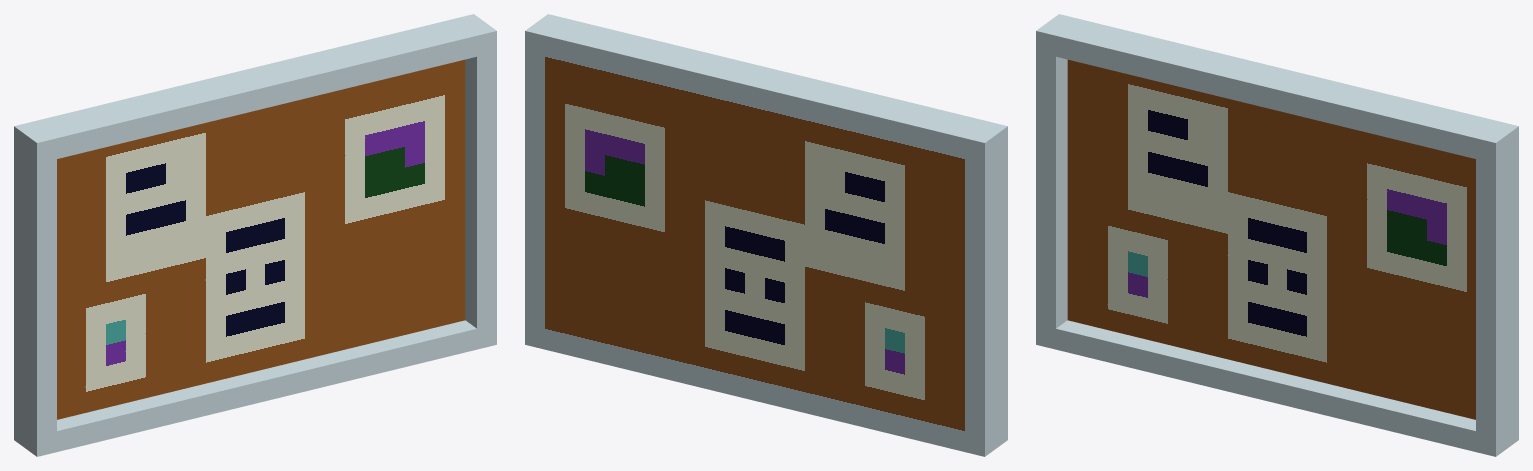
Rendered from tablica_korkowa.dae.
The picture shows the model from 3 angles, left to right: view 1: azimuth 30°, elevation 25°; view 2: azimuth 150°, elevation 25°; view 3: azimuth 330°, elevation 25°; orthographic projection.
Parts seen in each view (by area): view 1: Content; view 2: Content; view 3: Content.
Part boxes in pixels (<box>): Content: <box>14,14,496,456</box>; Content: <box>525,14,1007,456</box>; Content: <box>1036,14,1518,456</box>.
Size of the model in its own units: 23 by 15 by 2.
Materials: 1 (1 with a texture image).
